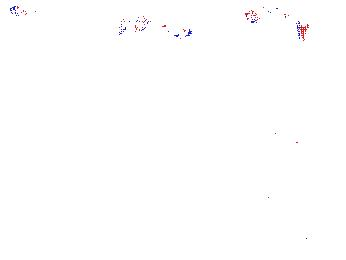glassfish: (258, 113, 346, 148)
red belly glassfish: (8, 2, 44, 19), (116, 16, 152, 32)
redtail glassfish: (114, 12, 193, 40), (243, 7, 307, 40)
